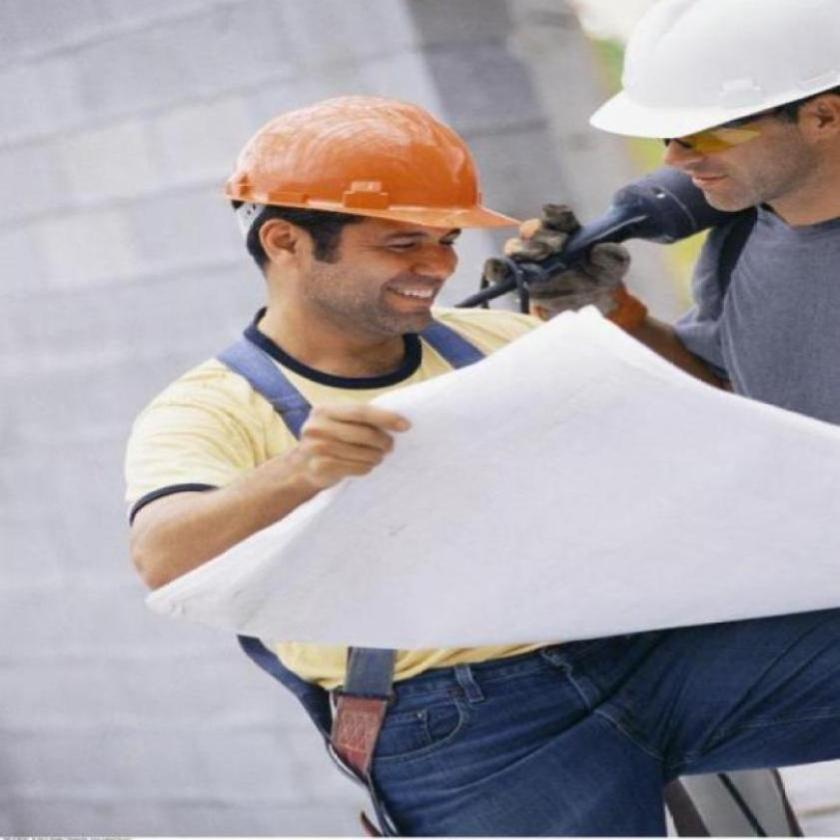Con_casco: (226, 95, 520, 362), (574, 0, 839, 226)
